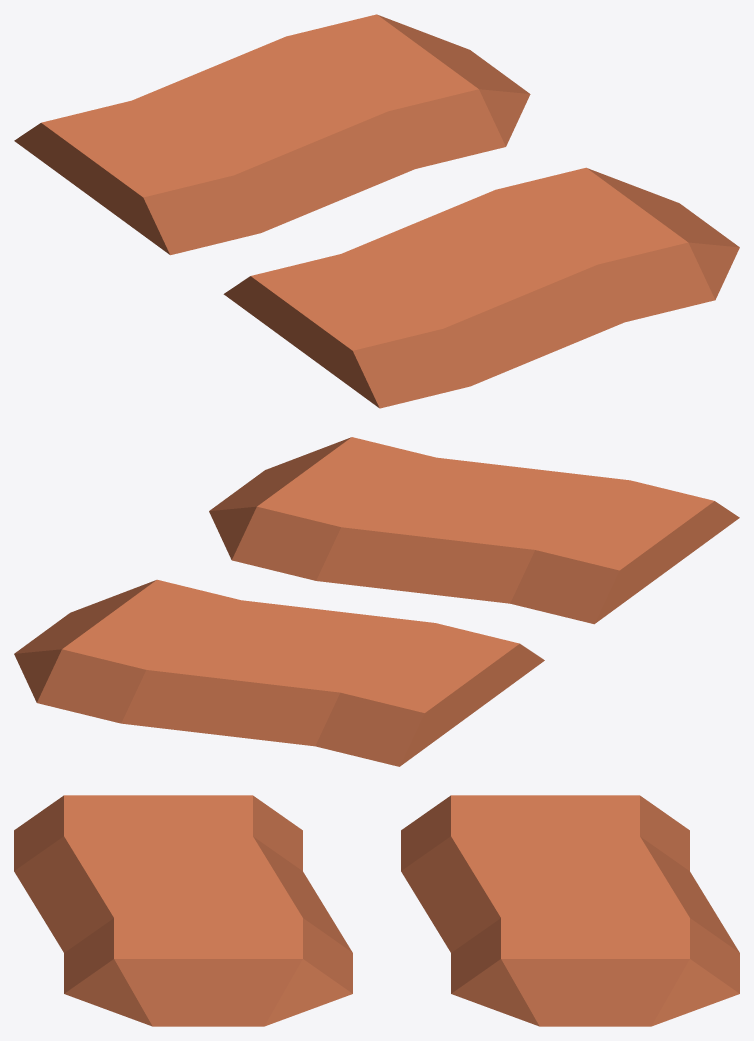
Rendered from crops_dirtDoubleRowEnd.obj.
3 renders of one model, top to bottom at view 1: azimuth 30°, elevation 25°; view 2: azimuth 150°, elevation 25°; view 3: azimuth 270°, elevation 25°, orthographic. The views are drawn at different scales.
Parts seen in each view (by area): view 1: crops_dirtDoubleRowEnd; view 2: crops_dirtDoubleRowEnd; view 3: crops_dirtDoubleRowEnd.
Part boxes in pixels (x1,y1,x2,y2): crops_dirtDoubleRowEnd: (14,14,739,408); crops_dirtDoubleRowEnd: (14,437,739,766); crops_dirtDoubleRowEnd: (14,795,739,1026).
Size of the model in its own units: 0.6 by 0.05 by 0.938.
